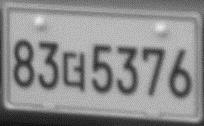3: (37, 40, 59, 89), (116, 46, 138, 94)
5: (90, 44, 113, 94)
6: (167, 47, 192, 99)
7: (140, 46, 166, 97)
8: (11, 39, 35, 88)
더: (62, 50, 87, 91)
